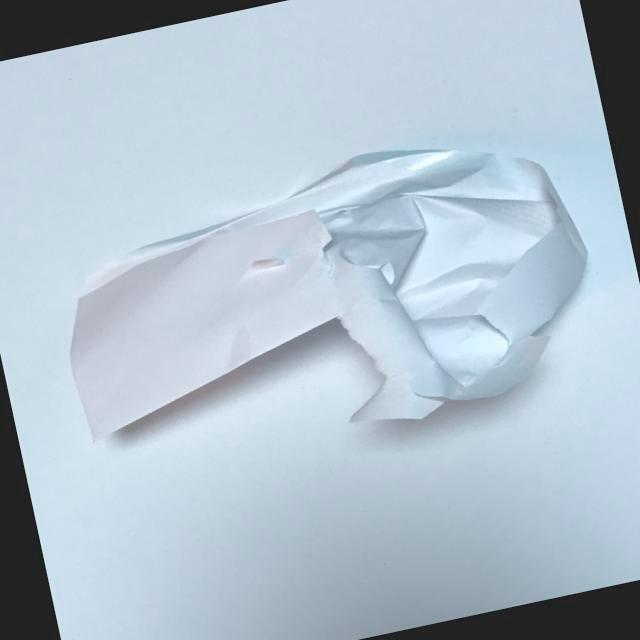paper: (34, 100, 622, 488)
